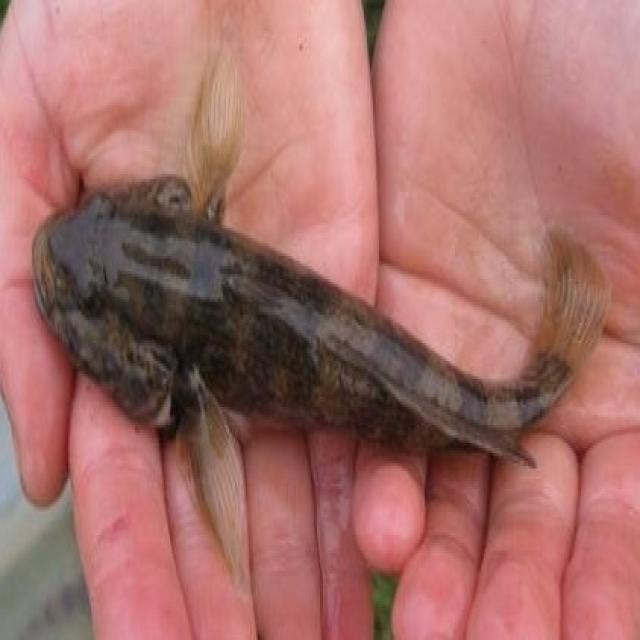Goby: (9, 8, 640, 560)
